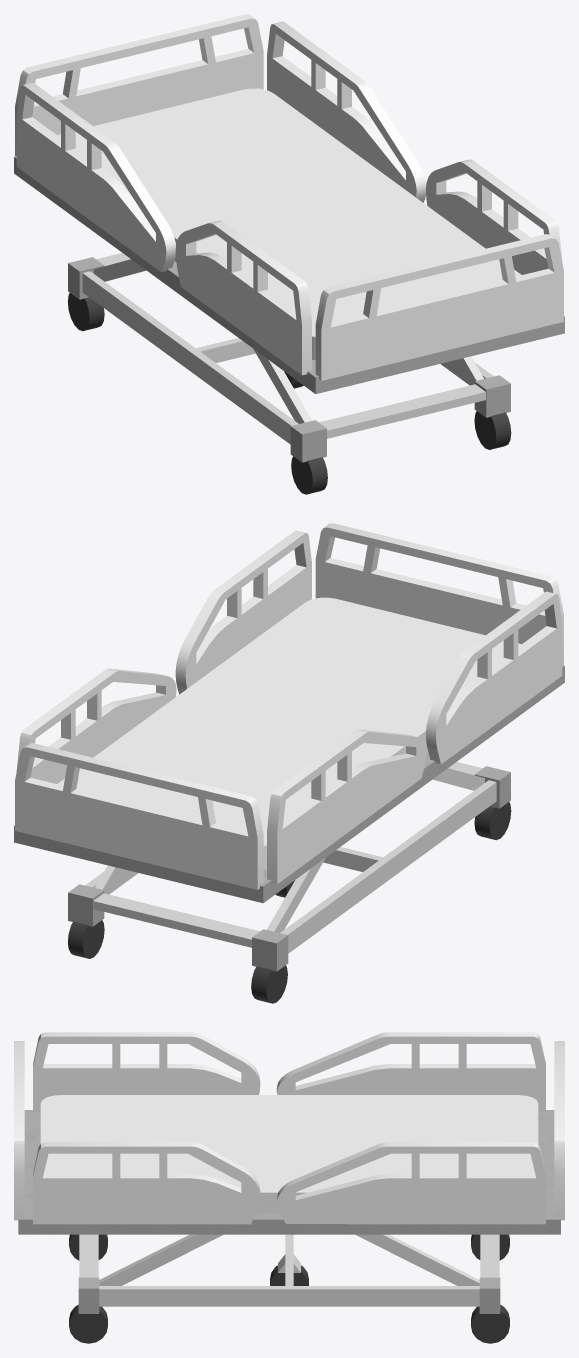
The model's file is HospitalBed.fbx.
3 views of the same model, one above another, from view 1: azimuth 30°, elevation 25°; view 2: azimuth 150°, elevation 25°; view 3: azimuth 270°, elevation 25° (orthographic). The views are drawn at different scales.
Visible parts, largest first — view 1: HospitalBed; view 2: HospitalBed; view 3: HospitalBed.
Part boxes in pixels (x1,y1,x2,y2): HospitalBed: (14, 14, 564, 494); HospitalBed: (14, 523, 564, 1003); HospitalBed: (14, 1032, 564, 1343).
Bounding box in the file's own units: 124 × 107 × 253.
4 materials, 1 textured.
